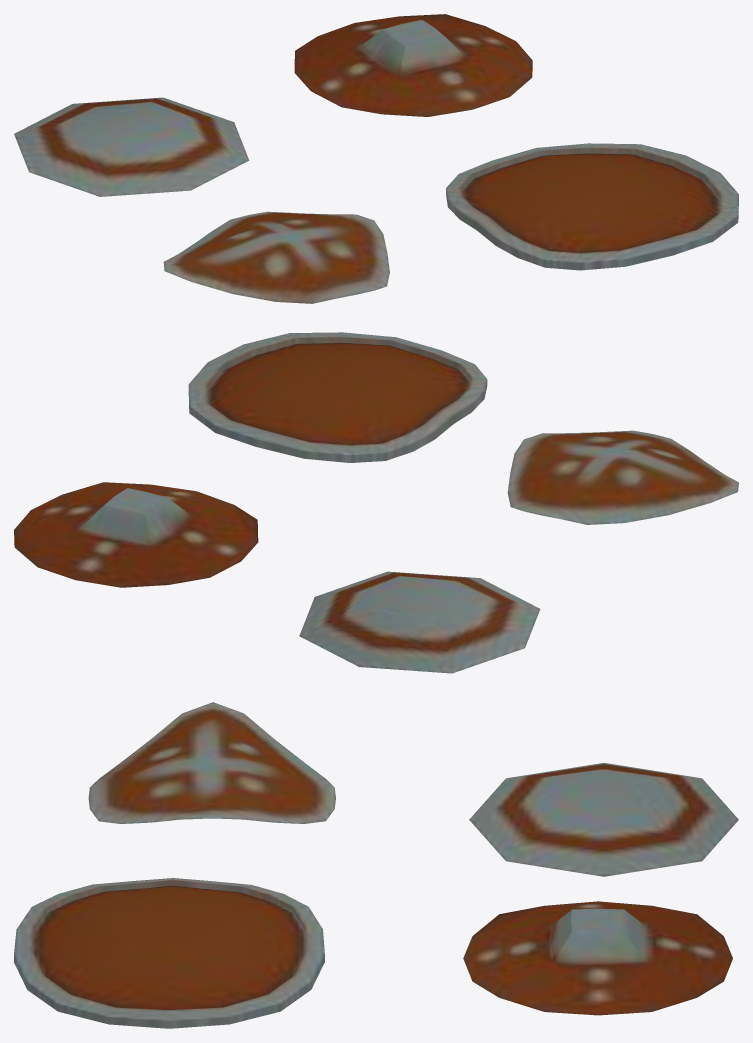
Rendered from shields.glb.
3 views of the same model, one above another, from view 1: azimuth 30°, elevation 25°; view 2: azimuth 150°, elevation 25°; view 3: azimuth 270°, elevation 25° (orthographic). The views are drawn at different scales.
Parts seen in each view (by area): view 1: Shields_blacksmith_0; view 2: Shields_blacksmith_0; view 3: Shields_blacksmith_0.
Boxes of the visible parts, x1,y1,x2,y2 form: Shields_blacksmith_0: (14, 14, 738, 303); Shields_blacksmith_0: (14, 332, 738, 673); Shields_blacksmith_0: (14, 702, 738, 1028).
Bounding box in the file's own units: 1.71 × 0.1464 × 1.76.
Materials: 1 (1 with a texture image).
